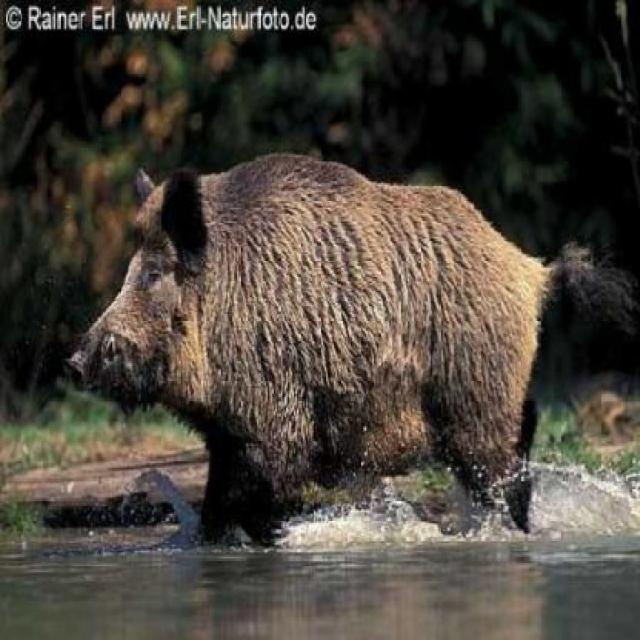pig: (68, 91, 626, 564)
